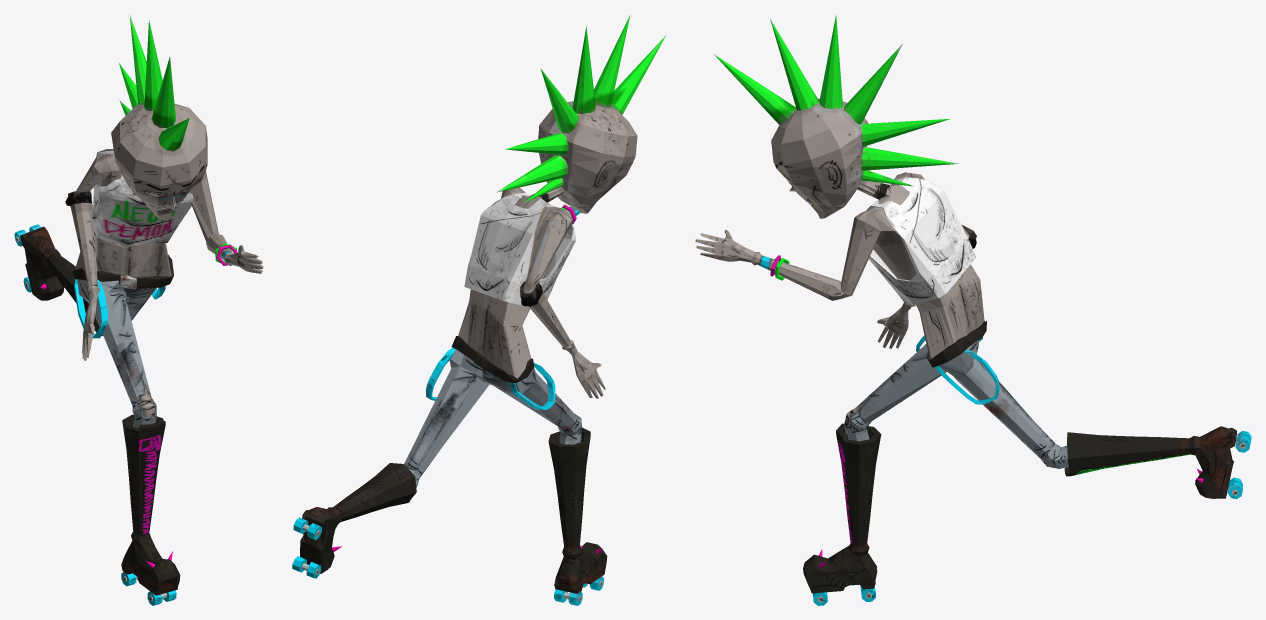
The model's file is punkAnimation_000012.obj.
The picture shows the model from 3 angles, left to right: view 1: azimuth 30°, elevation 25°; view 2: azimuth 150°, elevation 25°; view 3: azimuth 270°, elevation 25°; orthographic projection. The views are drawn at different scales.
Parts seen in each view (by area): view 1: Cube.004_Cube.003; view 2: Cube.004_Cube.003; view 3: Cube.004_Cube.003.
Part boxes in pixels (x1,y1,x2,y2): Cube.004_Cube.003: (14,14,263,605); Cube.004_Cube.003: (292,15,665,605); Cube.004_Cube.003: (695,15,1251,605).
Size of the model in its own units: 1.69 by 6.68 by 5.77.
